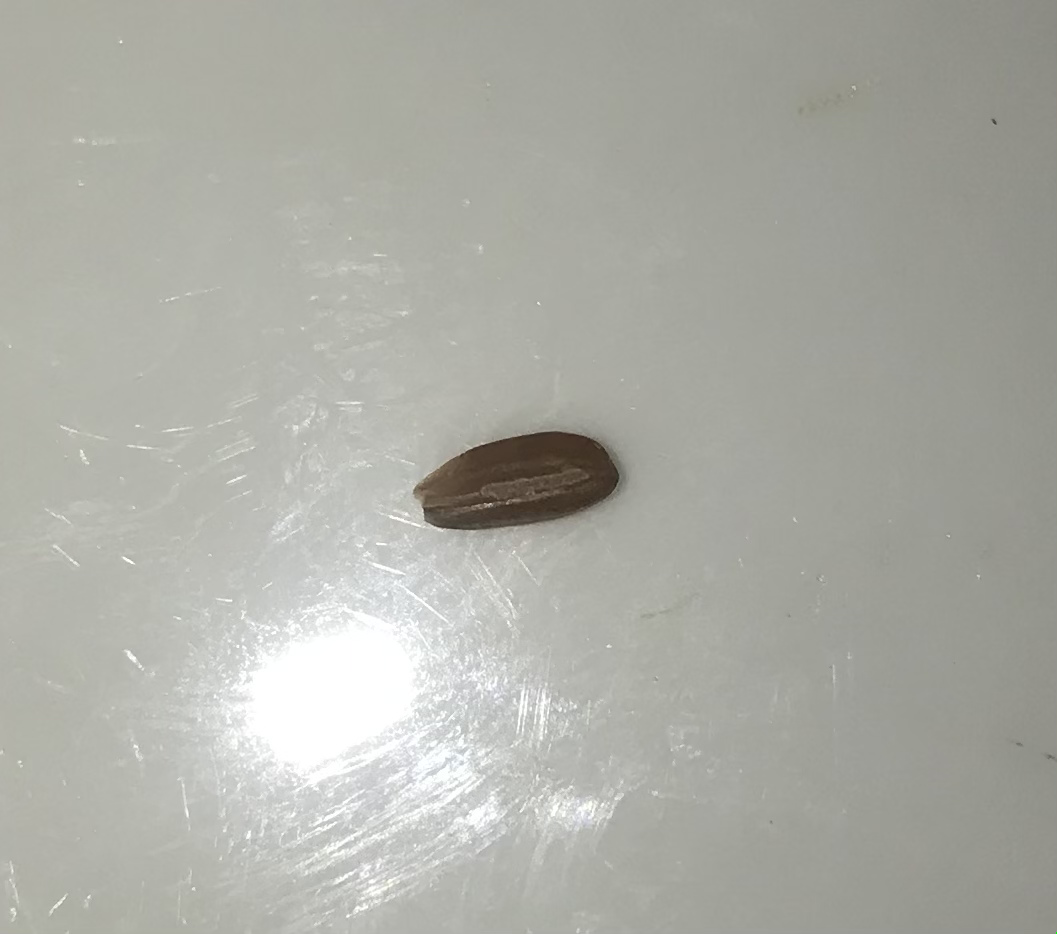Gao Lut Do: (419, 433, 624, 535)
